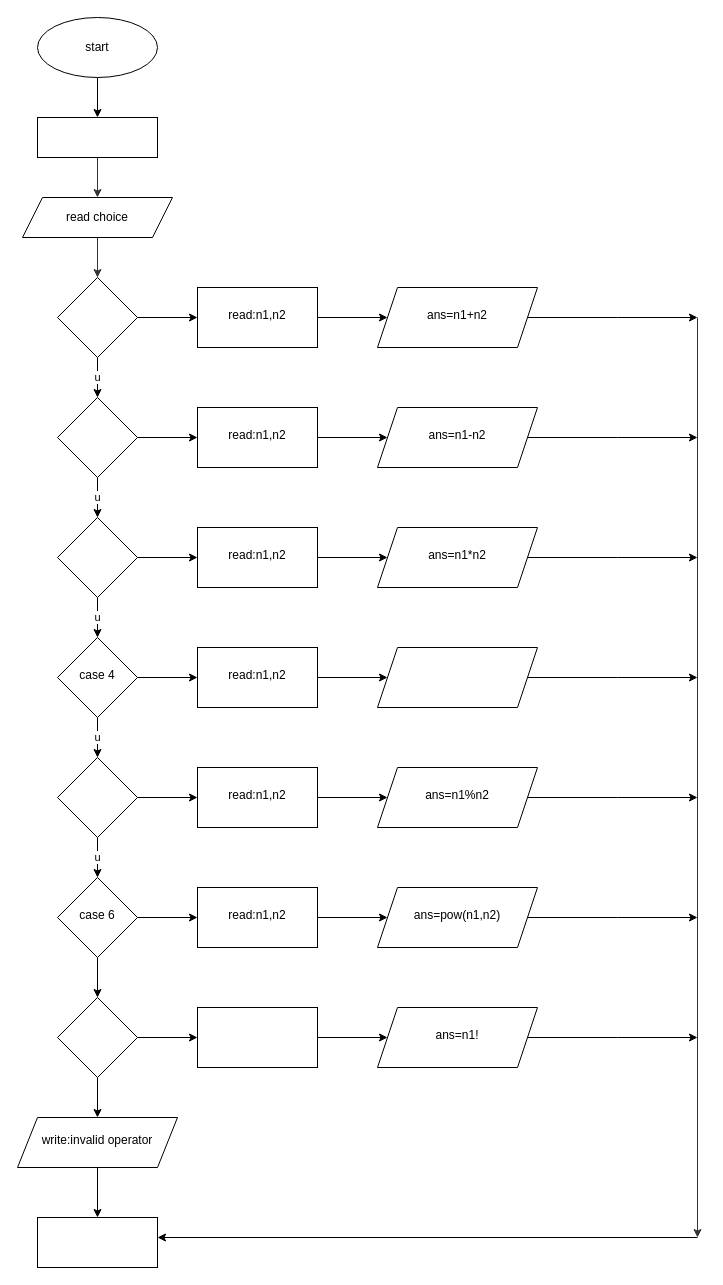
The diagram is 723 pixels wide and 1285 high, and some of its shapes have lost their labels. Here are the shapes that lost their labels. From the top down, the centre of each, then its label:
At point 97,137: "choices,n1,n2,ans".
At point 97,317: "case 1".
At point 97,437: "case 2".
At point 97,557: "case 3".
At point 457,677: "ans=n1/n2".
At point 97,797: "case 5".
At point 97,1037: "case 7".
At point 257,1037: "read:n1".
At point 97,1242: "stop".
